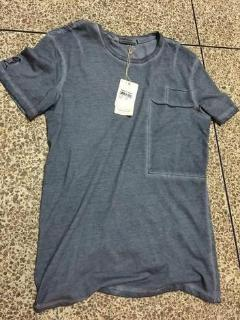short sleeve top: (0, 20, 239, 313)
